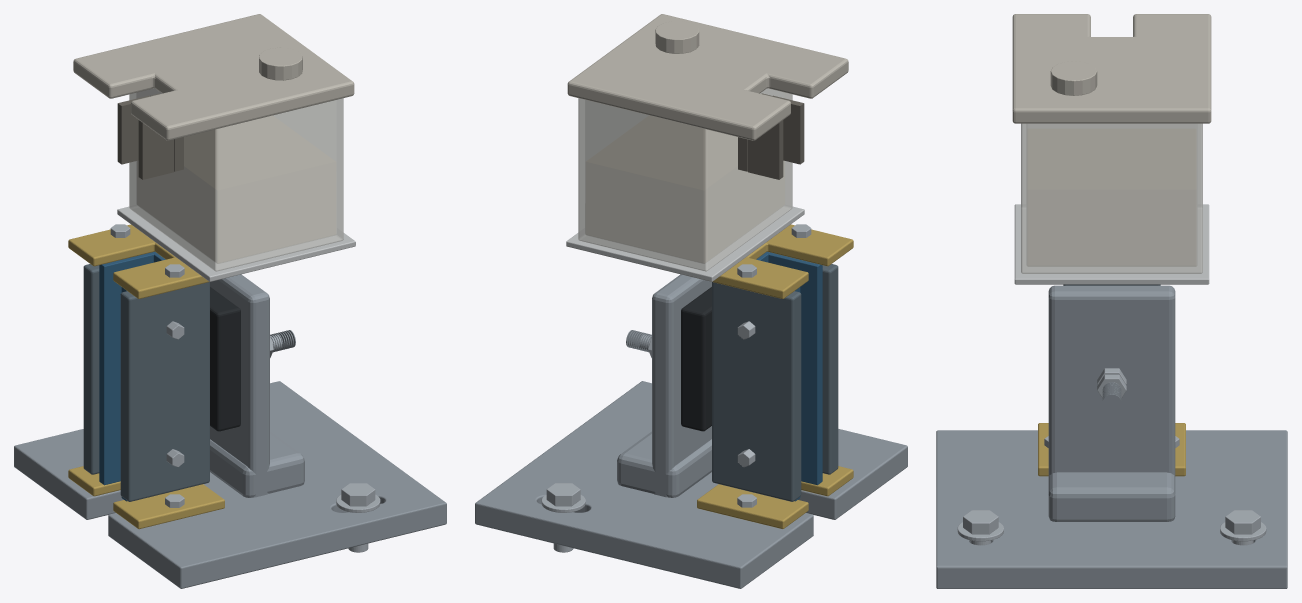
Rendered from car_guide_shoe.glb.
3 renders of one model, left to right at view 1: azimuth 30°, elevation 25°; view 2: azimuth 150°, elevation 25°; view 3: azimuth 270°, elevation 25°, orthographic. The views are drawn at different scales.
Parts seen in each view (by area): view 1: Adapter, OilerBody, Housing, OilerLid, Retainers, Liner, RubberStop, OilerFelt, OilerBracket, Fasteners; view 2: Adapter, OilerBody, Housing, OilerLid, Retainers, Liner, RubberStop, OilerFelt, OilerBracket, Fasteners; view 3: Adapter, OilerBody, OilerLid, OilerBracket, Fasteners, Retainers, Adjuster.
Boxes of the visible parts, x1=… form: Adapter: x1=14, y1=274, x2=446, y2=588; OilerBody: x1=129, y1=88, x2=343, y2=271; Housing: x1=83, y1=264, x2=209, y2=501; OilerLid: x1=73, y1=14, x2=354, y2=140; Retainers: x1=68, y1=224, x2=224, y2=529; Liner: x1=99, y1=251, x2=165, y2=501; RubberStop: x1=210, y1=287, x2=240, y2=431; OilerFelt: x1=117, y1=93, x2=183, y2=179; OilerBracket: x1=117, y1=206, x2=355, y2=281; Fasteners: x1=110, y1=224, x2=380, y2=552; Adapter: x1=475, y1=274, x2=907, y2=588; OilerBody: x1=578, y1=88, x2=792, y2=271; Housing: x1=712, y1=264, x2=838, y2=501; OilerLid: x1=567, y1=14, x2=848, y2=140; Retainers: x1=697, y1=224, x2=853, y2=528; Liner: x1=756, y1=251, x2=822, y2=501; RubberStop: x1=681, y1=287, x2=711, y2=431; OilerFelt: x1=738, y1=93, x2=804, y2=179; OilerBracket: x1=566, y1=206, x2=804, y2=281; Fasteners: x1=541, y1=224, x2=811, y2=552; Adapter: x1=936, y1=285, x2=1287, y2=588; OilerBody: x1=1021, y1=123, x2=1202, y2=273; OilerLid: x1=1012, y1=14, x2=1211, y2=123; OilerBracket: x1=1014, y1=204, x2=1209, y2=284; Fasteners: x1=957, y1=436, x2=1266, y2=545; Retainers: x1=1038, y1=423, x2=1185, y2=476; Adjuster: x1=1097, y1=368, x2=1126, y2=411.
Bounding box in the file's own units: 0.153 × 0.256 × 0.166.
